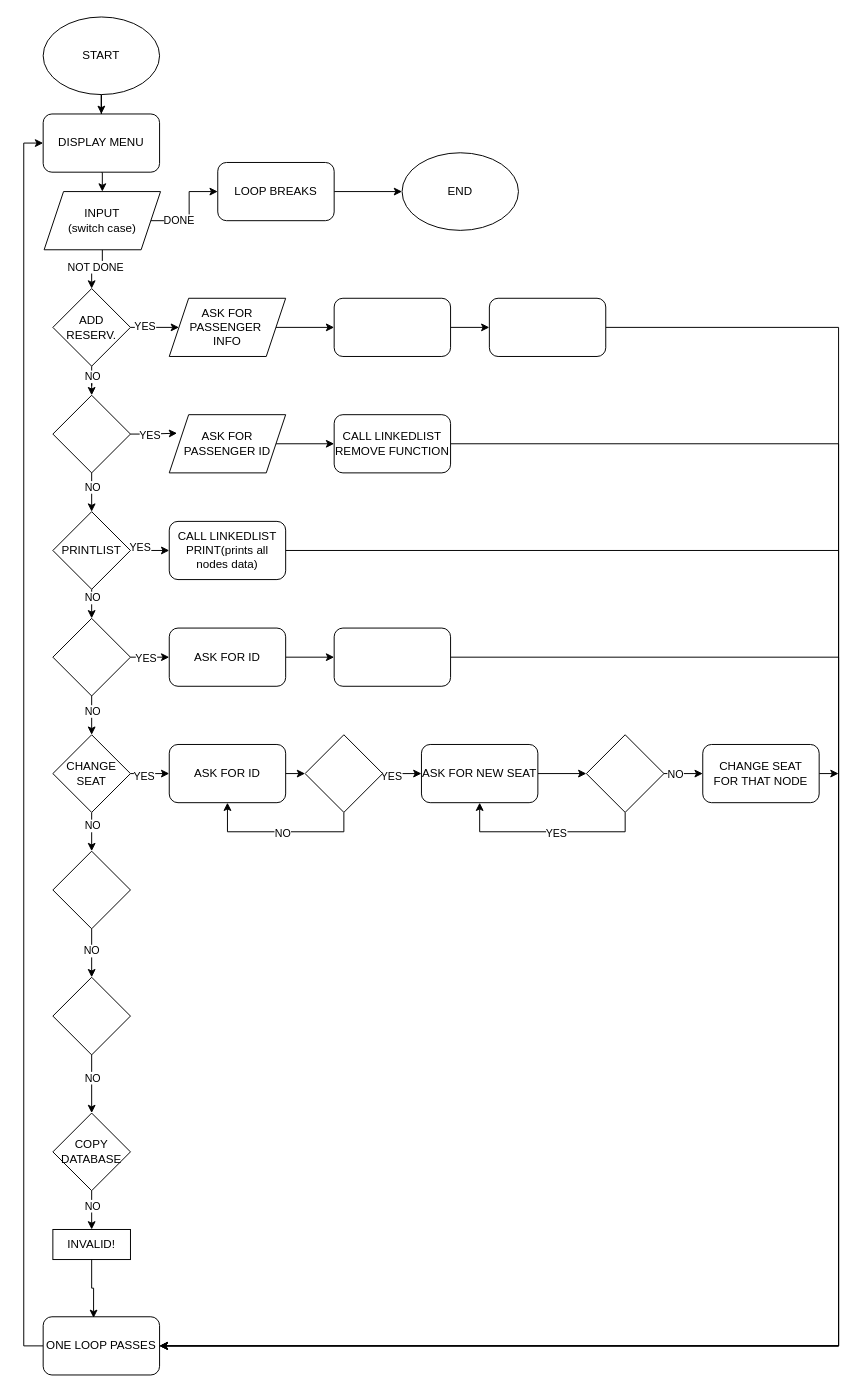
This 863x1392 diagram has some shape labels left out. The shapes that lost their labels are listed below. From the top down, each one's box as (x1, y1, x2, y2) in pixels, then its label:
(333, 297, 451, 356): CREATE NODE
(488, 297, 606, 356): CALL LINKEDLIST INSERT FUNCTION
(52, 394, 130, 473): REM RESERV.
(52, 617, 130, 696): SEARCH
(333, 627, 451, 686): CALL LINKEDLIST SEARCH
(304, 734, 383, 812): ID EXISTS (search)
(585, 734, 664, 812): SEAT TAKEN? (search)
(52, 850, 130, 929): CHANGE FOOD
(52, 976, 130, 1055): PRODUCE REPORTS
